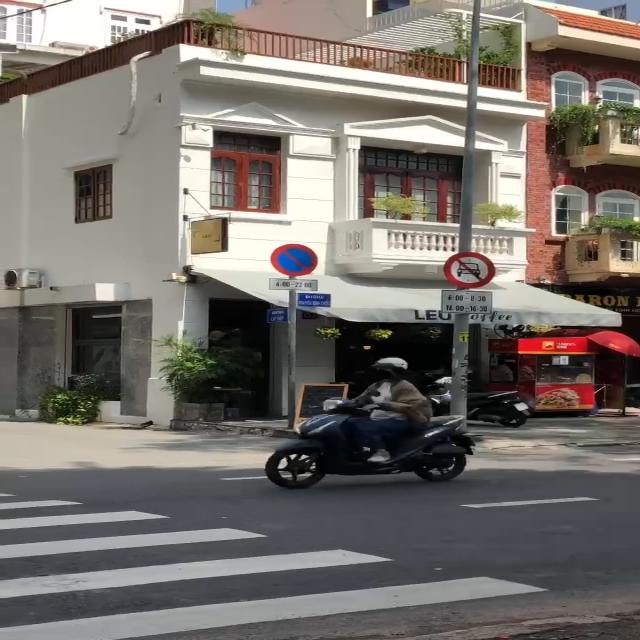Bien bao cam do xe: (268, 241, 321, 277)
Bien bao cam xe oto: (435, 248, 500, 286)
